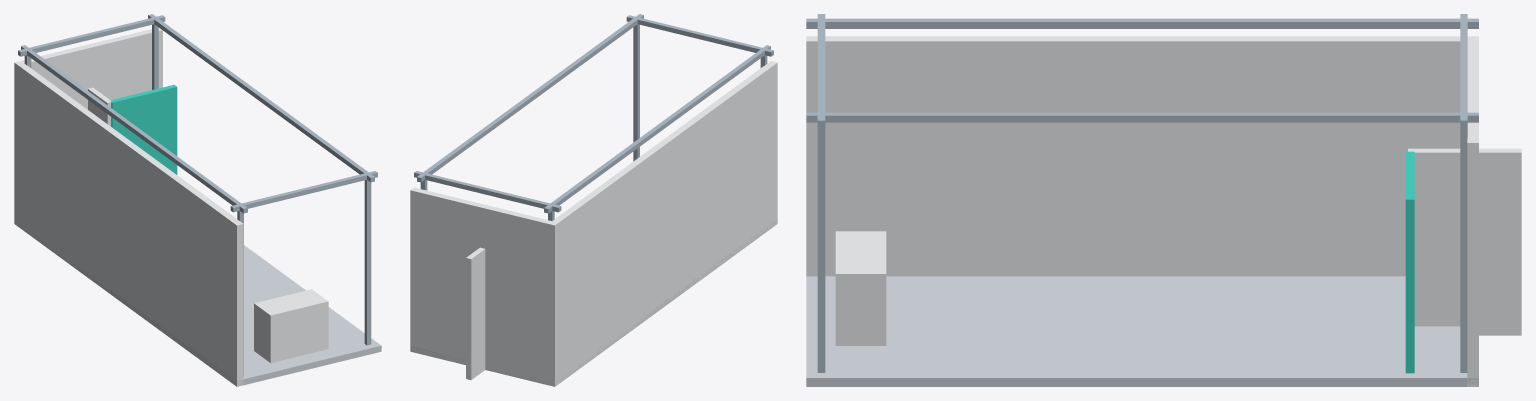
3 renders of one model, left to right at view 1: azimuth 30°, elevation 25°; view 2: azimuth 150°, elevation 25°; view 3: azimuth 270°, elevation 25°, orthographic. The views are drawn at different scales.
Parts seen in each view (by area): view 1: Exhibition Booth Concept; view 2: Exhibition Booth Concept; view 3: Exhibition Booth Concept.
Boxes of the visible parts, left/top/right/bottom form: Exhibition Booth Concept: left=14, top=14, right=381, bottom=386; Exhibition Booth Concept: left=410, top=14, right=777, bottom=386; Exhibition Booth Concept: left=806, top=14, right=1521, bottom=386.
Size of the model in its own units: 3 by 3.49 by 8.51.
